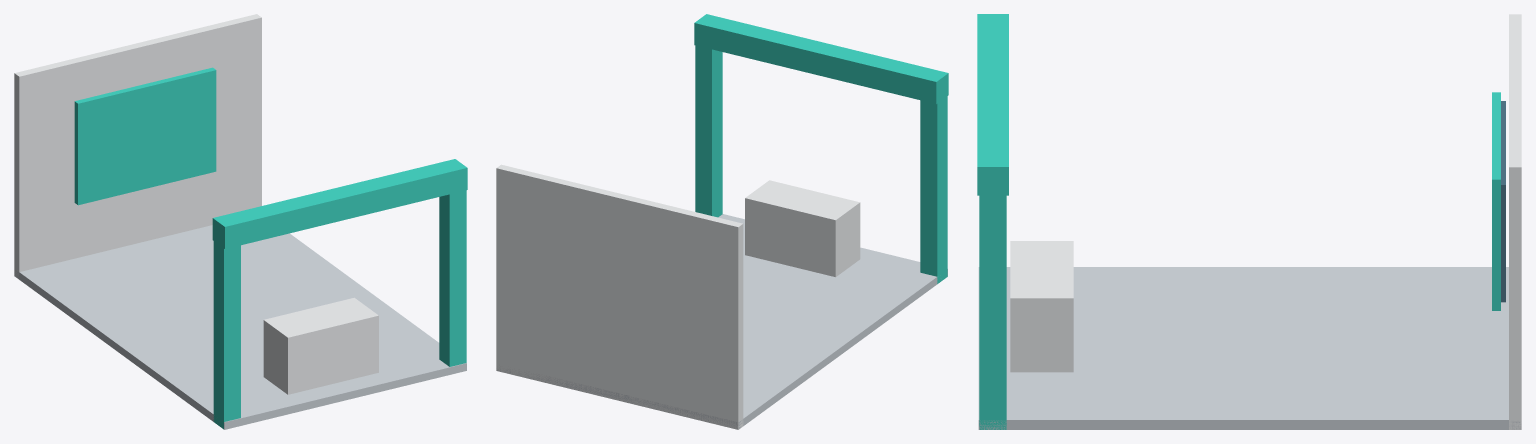
3 renders of one model, left to right at view 1: azimuth 30°, elevation 25°; view 2: azimuth 150°, elevation 25°; view 3: azimuth 270°, elevation 25°, orthographic. The views are drawn at different scales.
Visible parts, largest first — view 1: Exhibition Booth Concept; view 2: Exhibition Booth Concept; view 3: Exhibition Booth Concept.
Part boxes in pixels (x1,y1,x2,y2): Exhibition Booth Concept: [14, 14, 467, 429]; Exhibition Booth Concept: [496, 14, 948, 429]; Exhibition Booth Concept: [977, 14, 1521, 429].
Bounding box in the file's own units: 4 × 3.2 × 6.02.
